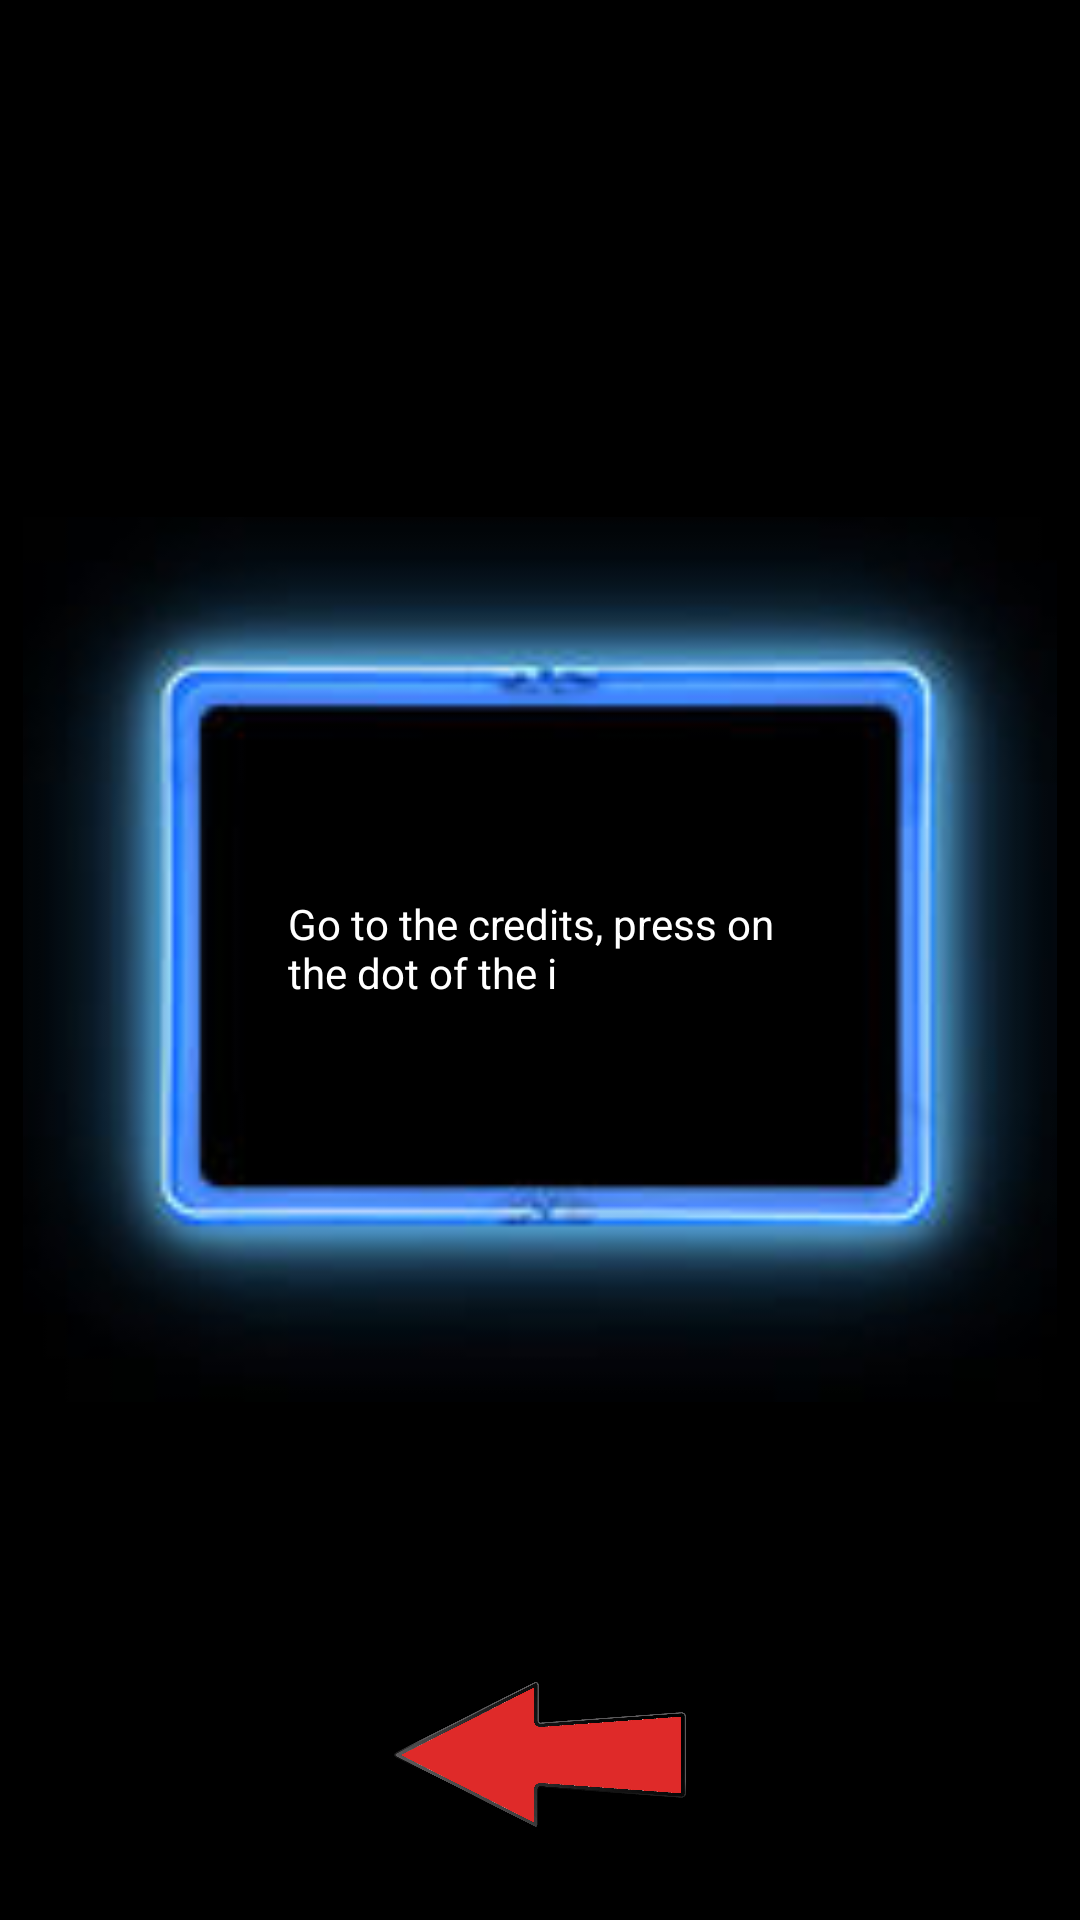

Where icons sit on this 1080w x 1920h app screen, as (x1, y1, x2, y2):
arrowleft: (395, 1682, 686, 1827)
